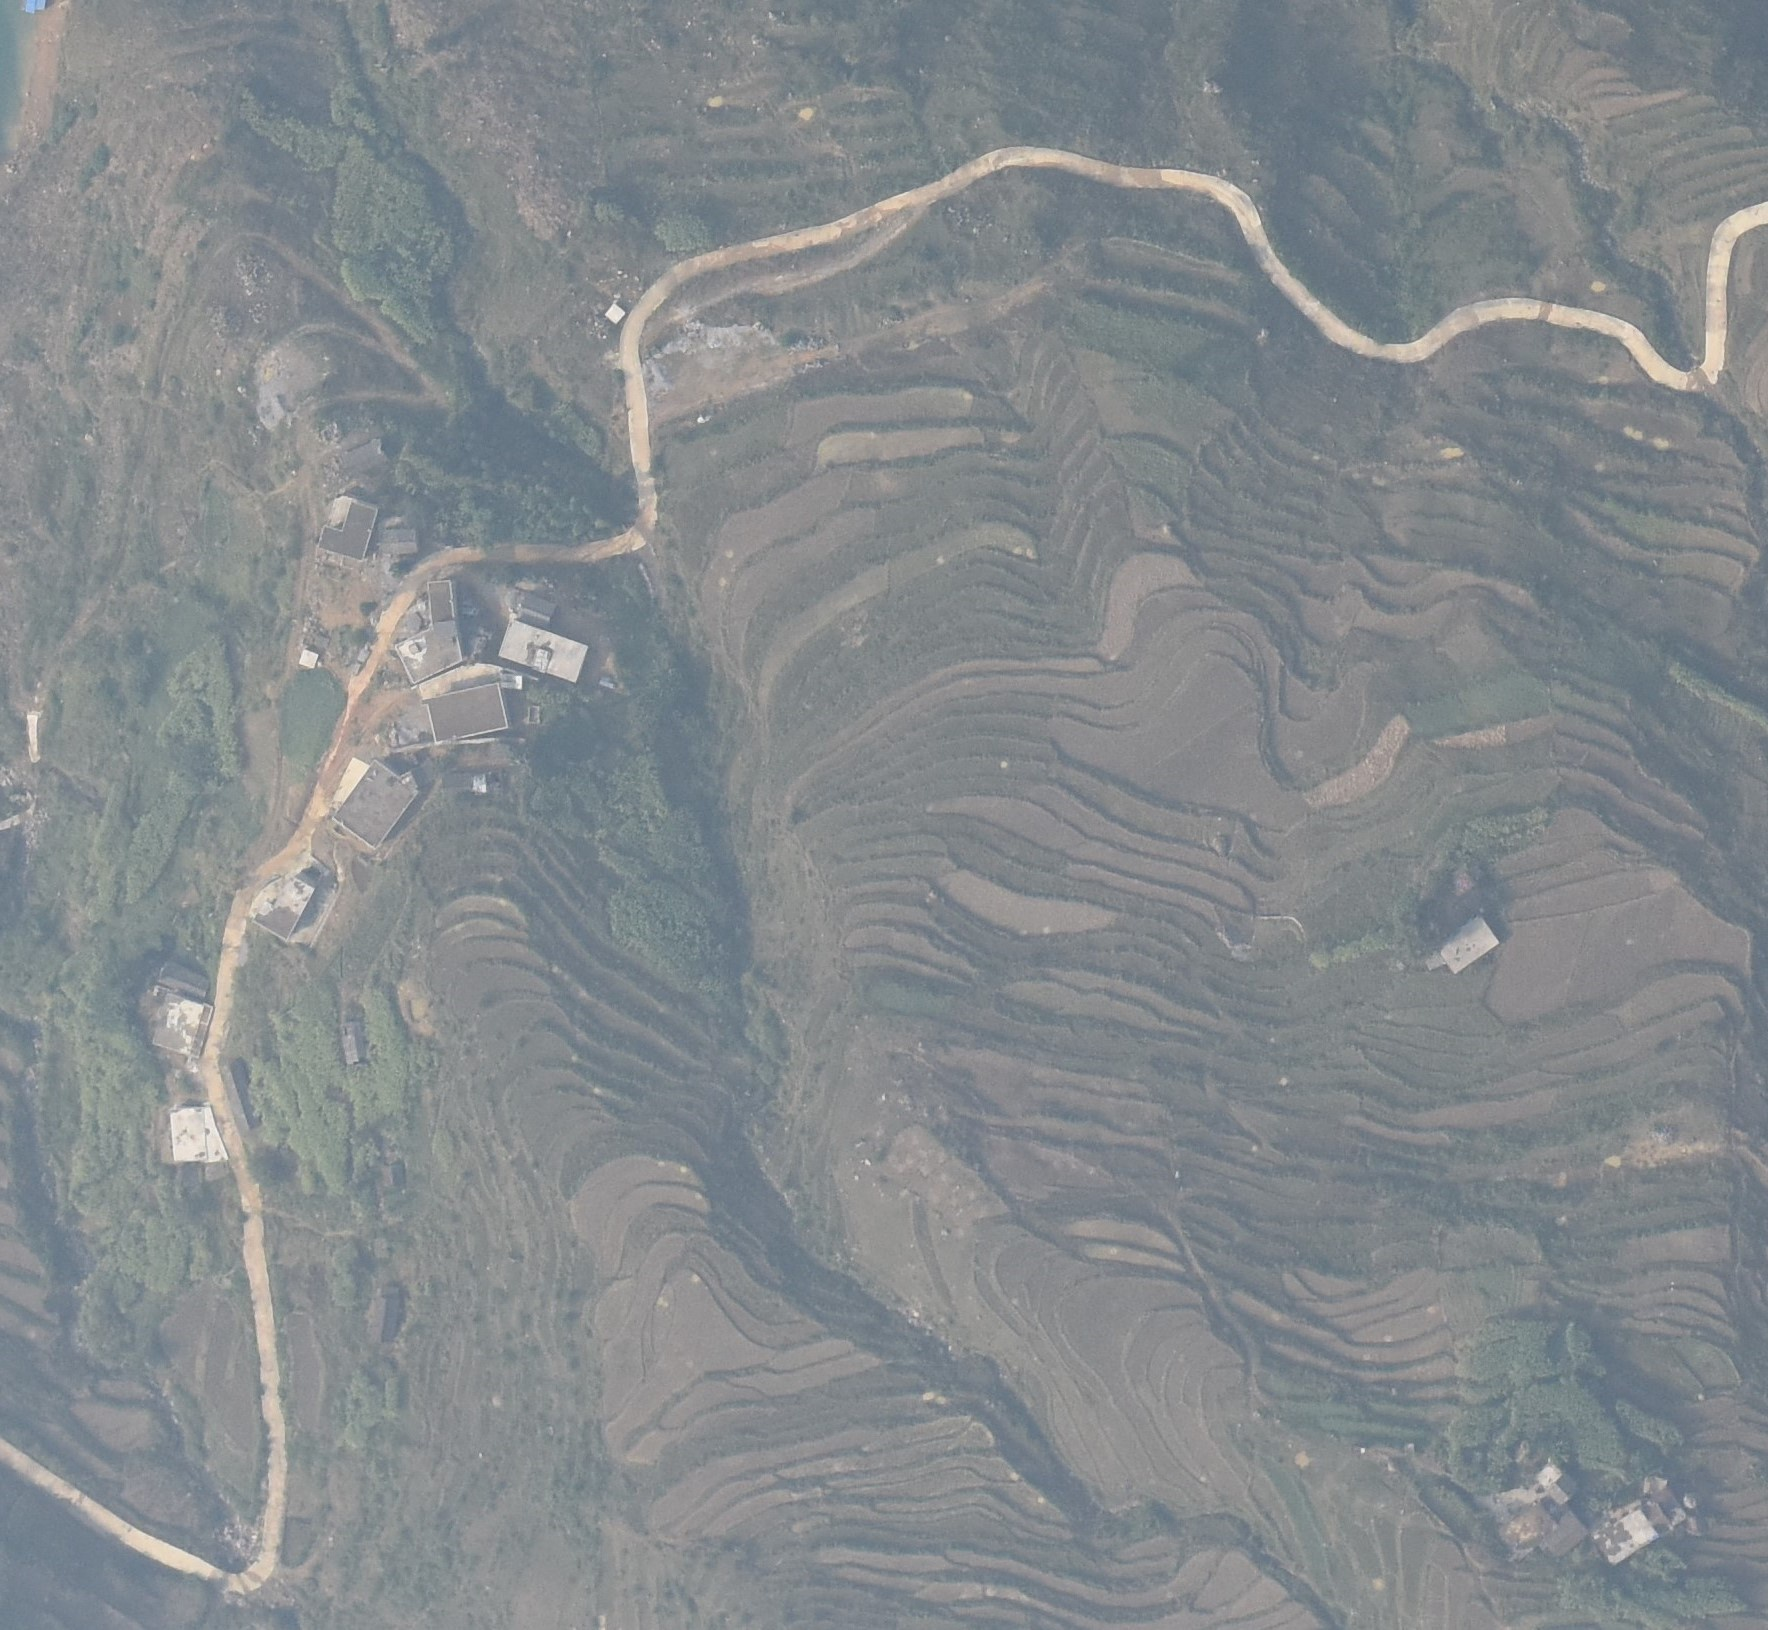building: (330, 756, 420, 854), (422, 686, 521, 747), (499, 619, 591, 684), (393, 619, 471, 686), (152, 991, 223, 1062), (157, 1098, 229, 1166), (240, 878, 322, 938), (316, 490, 379, 565), (1434, 917, 1505, 975), (1591, 1508, 1662, 1567), (1482, 1508, 1559, 1556), (1534, 1514, 1589, 1561), (152, 958, 208, 1000), (367, 524, 424, 558), (510, 589, 558, 627), (424, 576, 460, 626), (337, 1018, 368, 1066), (1545, 1474, 1582, 1507), (605, 304, 631, 330)
prefabricated-house: (293, 647, 320, 669)
